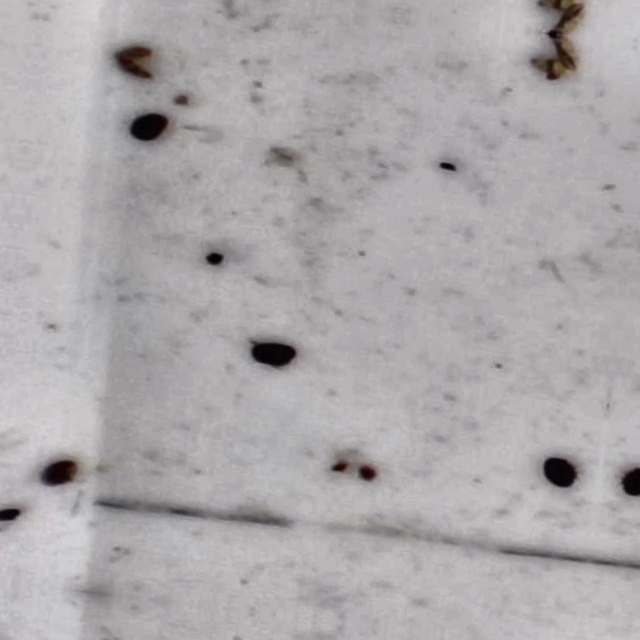varroa: (246, 337, 302, 373), (38, 454, 82, 494), (127, 109, 171, 146), (541, 457, 580, 491)
